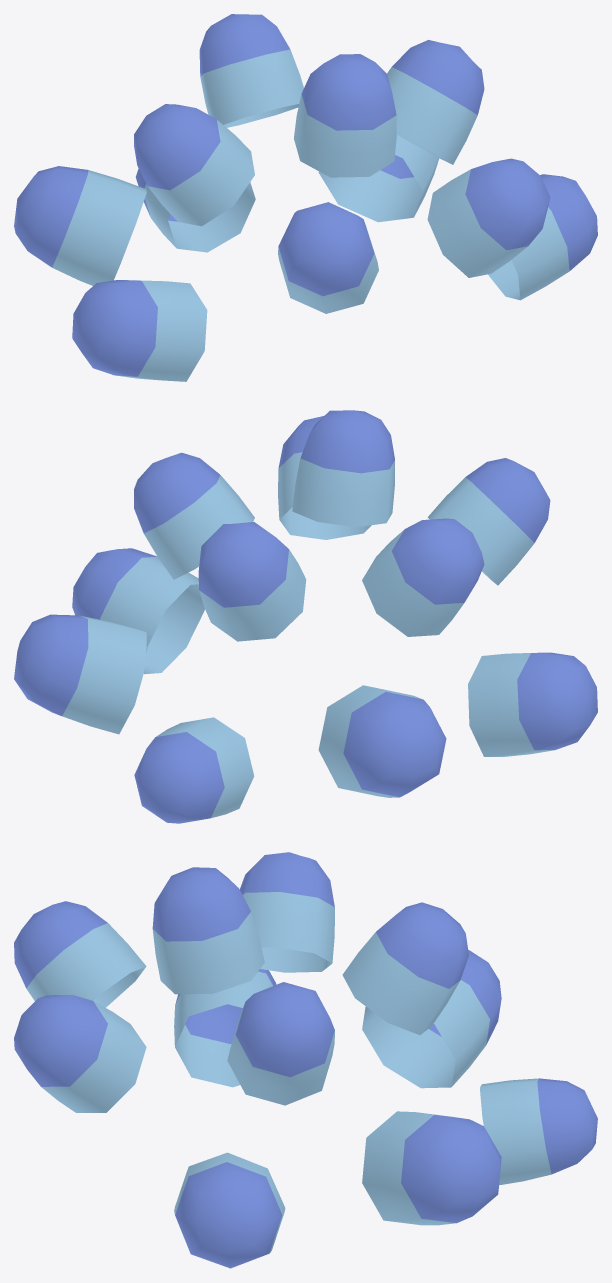
Rendered from hair_03.glb.
The picture shows the model from 3 angles, top to bottom: view 1: azimuth 30°, elevation 25°; view 2: azimuth 150°, elevation 25°; view 3: azimuth 270°, elevation 25°; orthographic projection. The views are drawn at different scales.
Visible parts, largest first — view 1: top.016, top.007, side; view 2: top.016, top.007, side; view 3: top.016, top.007, side.
Part boxes in pixels (bbox=[...]): top.016: bbox=[14, 40, 550, 313]; top.007: bbox=[135, 14, 396, 252]; side: bbox=[72, 174, 597, 381]; top.016: bbox=[14, 416, 550, 797]; top.007: bbox=[134, 410, 394, 823]; side: bbox=[72, 548, 597, 756]; top.016: bbox=[14, 852, 501, 1225]; top.007: bbox=[152, 867, 597, 1185]; side: bbox=[174, 969, 285, 1268].
Size of the model in its own units: 1.4 by 0.7832 by 1.34.
